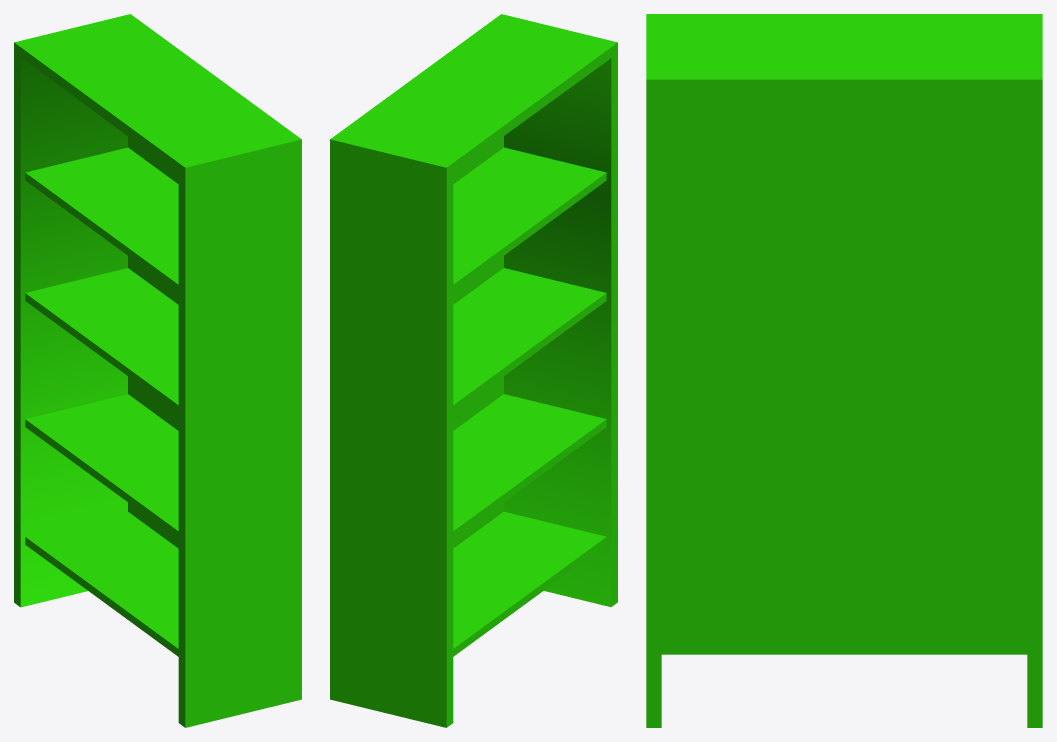
Rendered from Bookcase_01.fbx.
3 views of the same model, side by side, from view 1: azimuth 30°, elevation 25°; view 2: azimuth 150°, elevation 25°; view 3: azimuth 270°, elevation 25° (orthographic). The views are drawn at different scales.
Visible parts, largest first — view 1: Bookcase_01; view 2: Bookcase_01; view 3: Bookcase_01.
Part boxes in pixels (box(x1,y1,x2,y2)): Bookcase_01: box(14, 14, 301, 727); Bookcase_01: box(330, 14, 617, 727); Bookcase_01: box(646, 14, 1042, 727).
Size of the model in its own units: 39.05 by 180 by 99.51.
